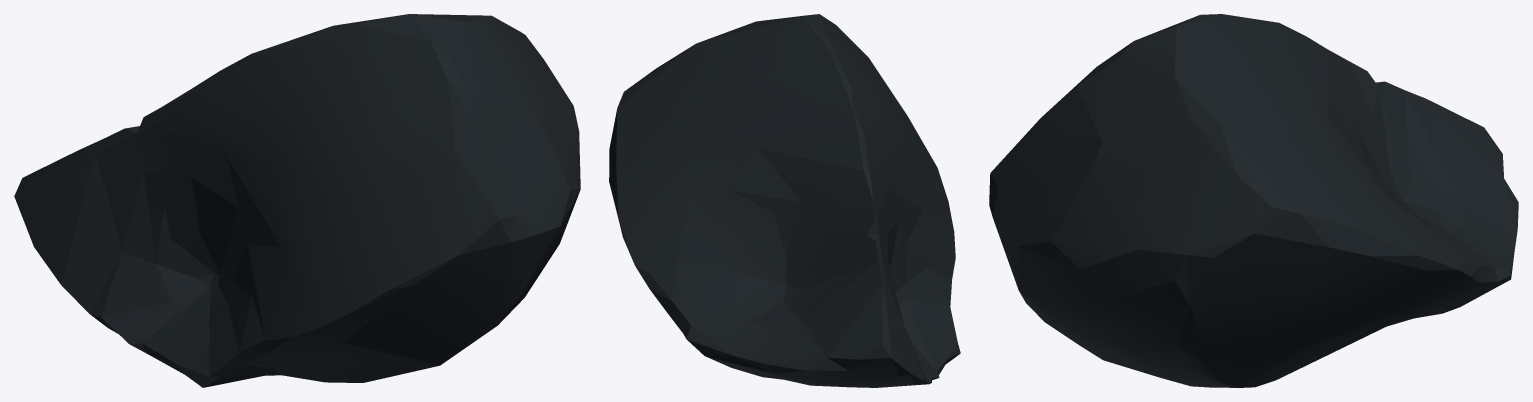
Rendered from Asteroid_m_20.FBX.
The picture shows the model from 3 angles, left to right: view 1: azimuth 30°, elevation 25°; view 2: azimuth 150°, elevation 25°; view 3: azimuth 270°, elevation 25°; orthographic projection. The views are drawn at different scales.
Visible parts, largest first — view 1: Asteroid_m_20; view 2: Asteroid_m_20; view 3: Asteroid_m_20.
Part boxes in pixels (x1=…): Asteroid_m_20: x1=14, y1=14, x2=580, y2=387; Asteroid_m_20: x1=609, y1=14, x2=960, y2=387; Asteroid_m_20: x1=989, y1=14, x2=1518, y2=387.
Bounding box in the file's own units: 824 × 645 × 856.
